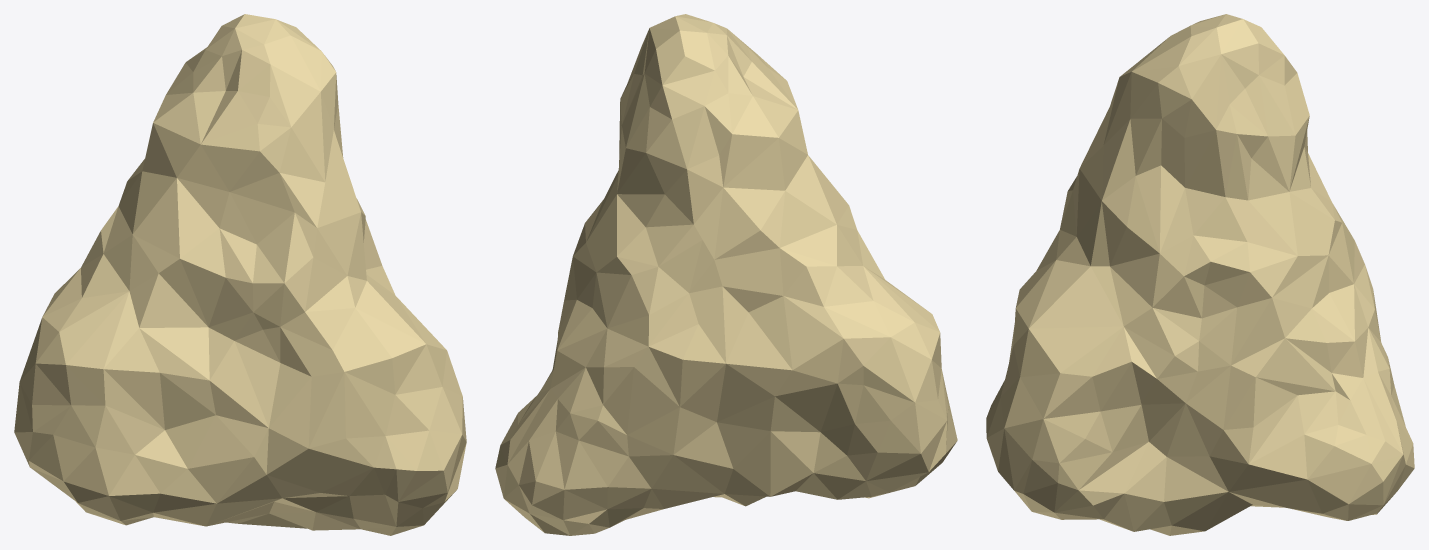
The model's file is Asteroid (16).fbx.
The picture shows the model from 3 angles, left to right: view 1: azimuth 30°, elevation 25°; view 2: azimuth 150°, elevation 25°; view 3: azimuth 270°, elevation 25°; orthographic projection. The views are drawn at different scales.
Visible parts, largest first — view 1: Asteroid203; view 2: Asteroid203; view 3: Asteroid203.
Part boxes in pixels (<box>): Asteroid203: <box>14,14,466,535</box>; Asteroid203: <box>495,14,957,535</box>; Asteroid203: <box>986,14,1414,535</box>.
Bounding box in the file's own units: 253 × 321 × 255.
